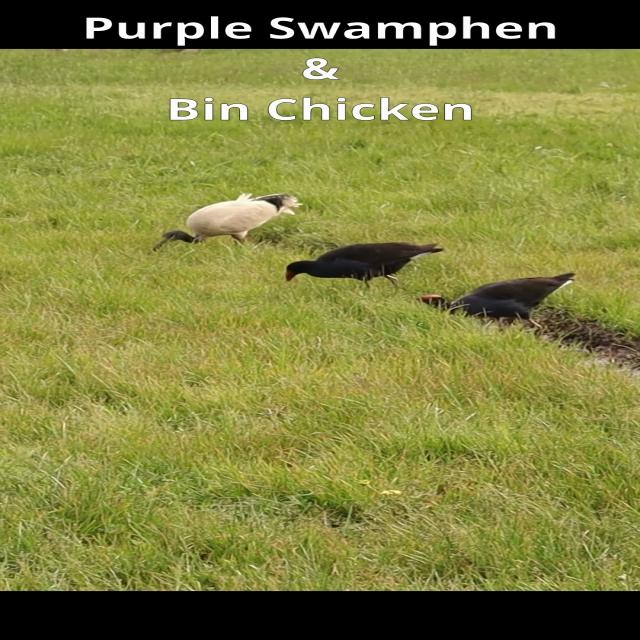Birds-Ibis: (148, 190, 305, 256)
Birds-Other: (415, 269, 581, 333), (284, 240, 446, 294)
